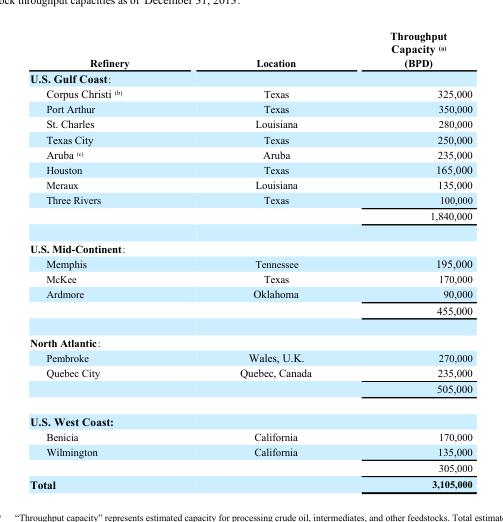table: (29, 29, 471, 490)
table column: (183, 29, 350, 490), (29, 29, 183, 490), (350, 29, 471, 490)
table column header: (29, 29, 471, 69)
table projected row header: (29, 231, 471, 255), (29, 404, 471, 428), (29, 326, 471, 349), (29, 69, 471, 85)
table row: (29, 29, 471, 69), (29, 301, 471, 326), (29, 207, 471, 231), (29, 231, 471, 255), (29, 380, 471, 404), (29, 404, 471, 428), (29, 326, 471, 349), (29, 69, 471, 85), (29, 115, 471, 131), (29, 176, 471, 192), (29, 255, 471, 271), (29, 364, 471, 380), (29, 443, 471, 459), (29, 459, 471, 475), (29, 85, 471, 100), (29, 100, 471, 115), (29, 131, 471, 146), (29, 146, 471, 161), (29, 161, 471, 176), (29, 192, 471, 207), (29, 271, 471, 286), (29, 286, 471, 301), (29, 349, 471, 364), (29, 428, 471, 443), (29, 475, 471, 490)
table spanning cell: (29, 286, 183, 326), (29, 364, 183, 404), (29, 192, 183, 231), (29, 443, 183, 475)
